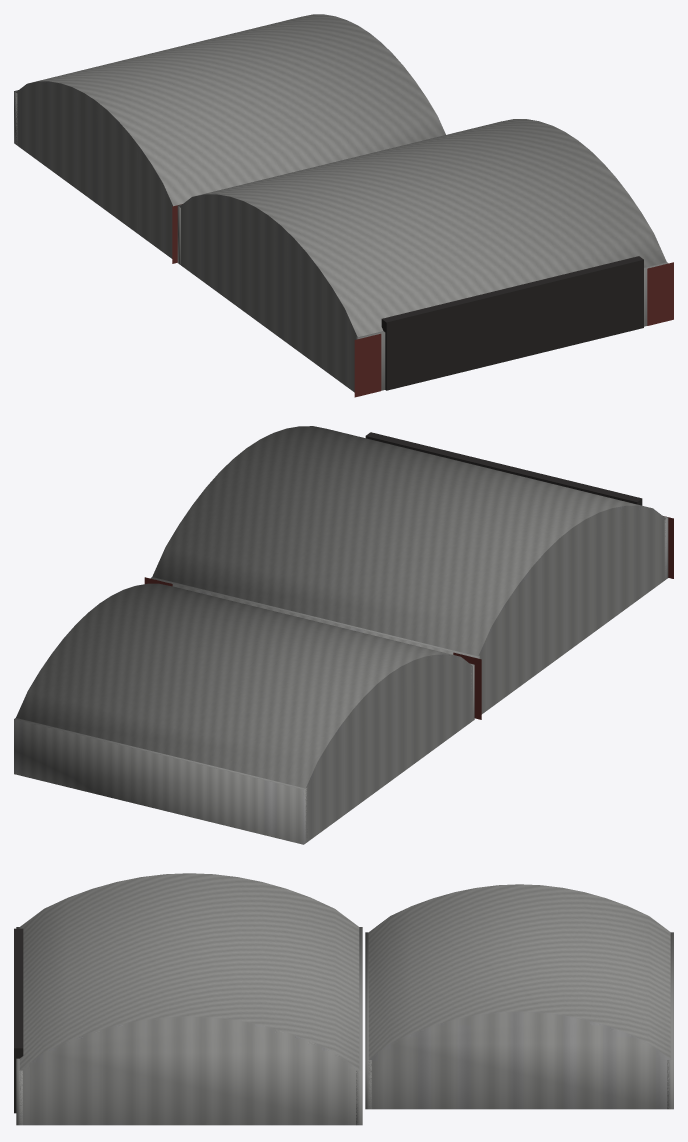
Rendered from sdsc_hangar_midfield.glb.
3 views of the same model, one above another, from view 1: azimuth 30°, elevation 25°; view 2: azimuth 150°, elevation 25°; view 3: azimuth 270°, elevation 25° (orthographic). The views are drawn at different scales.
Visible parts, largest first — view 1: sdsc_hangar_midfield; view 2: sdsc_hangar_midfield; view 3: sdsc_hangar_midfield.
Part boxes in pixels (<box>): sdsc_hangar_midfield: <box>14,14,673,397</box>; sdsc_hangar_midfield: <box>14,426,673,844</box>; sdsc_hangar_midfield: <box>14,873,673,1125</box>.
Bounding box in the file's own units: 37.2 × 12.7 × 69.95.
4 materials, 1 textured.
